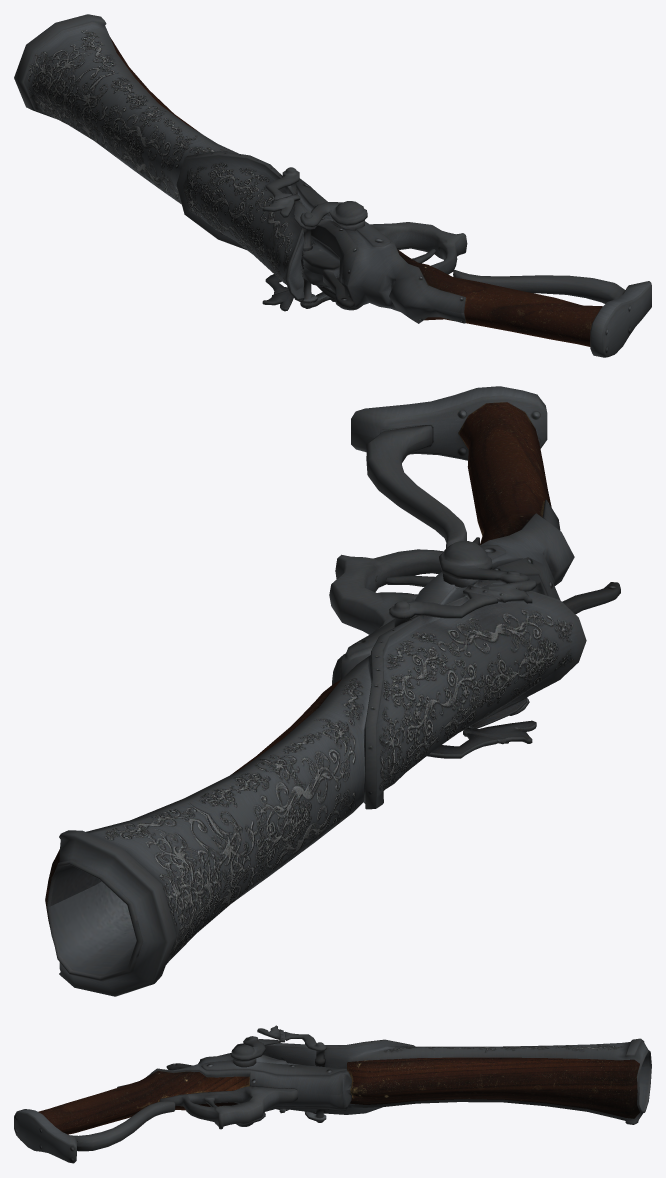
The model's file is yharnamgun.obj.
3 renders of one model, top to bottom at view 1: azimuth 30°, elevation 25°; view 2: azimuth 150°, elevation 25°; view 3: azimuth 270°, elevation 25°, orthographic. The views are drawn at different scales.
Visible parts, largest first — view 1: Model001_24_Mesh1_0_0_0_root_root; view 2: Model001_24_Mesh1_0_0_0_root_root; view 3: Model001_24_Mesh1_0_0_0_root_root.
Boxes of the visible parts, bbox=[...] form: Model001_24_Mesh1_0_0_0_root_root: bbox=[14, 14, 651, 357]; Model001_24_Mesh1_0_0_0_root_root: bbox=[45, 386, 620, 996]; Model001_24_Mesh1_0_0_0_root_root: bbox=[14, 1025, 651, 1163].
Bounding box in the file's own units: 0.4946 × 0.1906 × 1.39.
